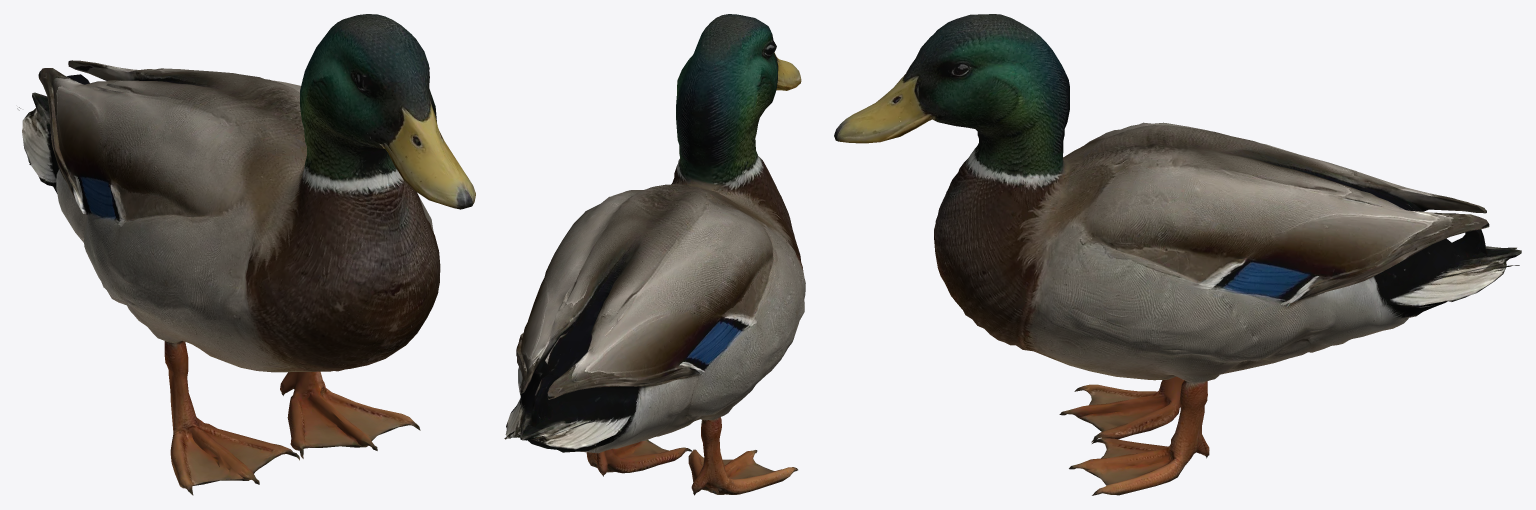
The model's file is duck.glb.
3 renders of one model, left to right at view 1: azimuth 30°, elevation 25°; view 2: azimuth 150°, elevation 25°; view 3: azimuth 270°, elevation 25°, orthographic. The views are drawn at different scales.
Parts seen in each view (by area): view 1: Object_5; view 2: Object_5; view 3: Object_5.
Boxes of the visible parts, x1=… form: Object_5: x1=17, y1=14, x2=475, y2=495; Object_5: x1=504, y1=14, x2=805, y2=495; Object_5: x1=834, y1=14, x2=1521, y2=495.
Size of the model in its own units: 0.4066 by 0.6957 by 0.9955.
1 material, 1 textured.
